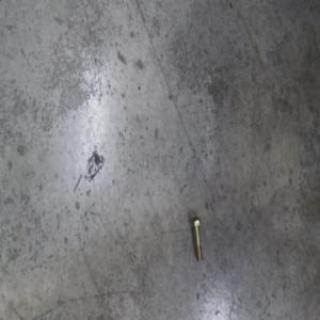Bolttrack_idkeyframe: (186, 215, 200, 263)
